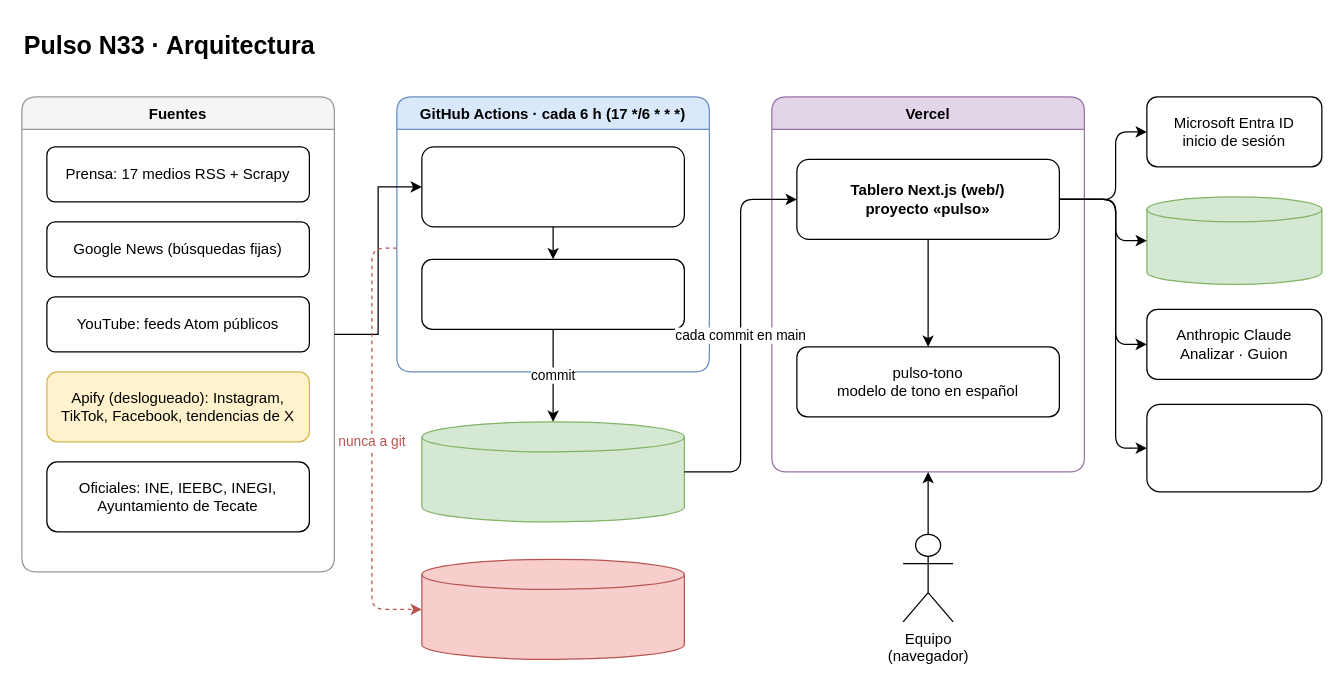
This 1344x688 diagram has some shape labels left out. The shapes that lost their labels are listed below. From the top down, each one's centre as x and y in pixels, then its label:
At pixel 552 186: "python -m pulso correr · redes · tiktok · facebook · youtube · tendencias".
At pixel 1234 240: "Neon Postgres usuarios · seguimiento".
At pixel 552 293: "pulso validar (el esquema ejecutable)".
At pixel 1234 447: "En vivo: Google News · CBP (garitas) · Apify (Seguimiento)".
At pixel 552 471: "git: data/*.json el archivo histórico".
At pixel 552 608: "data/*-comentarios.json y cache/ fuera de git · 30 días".
